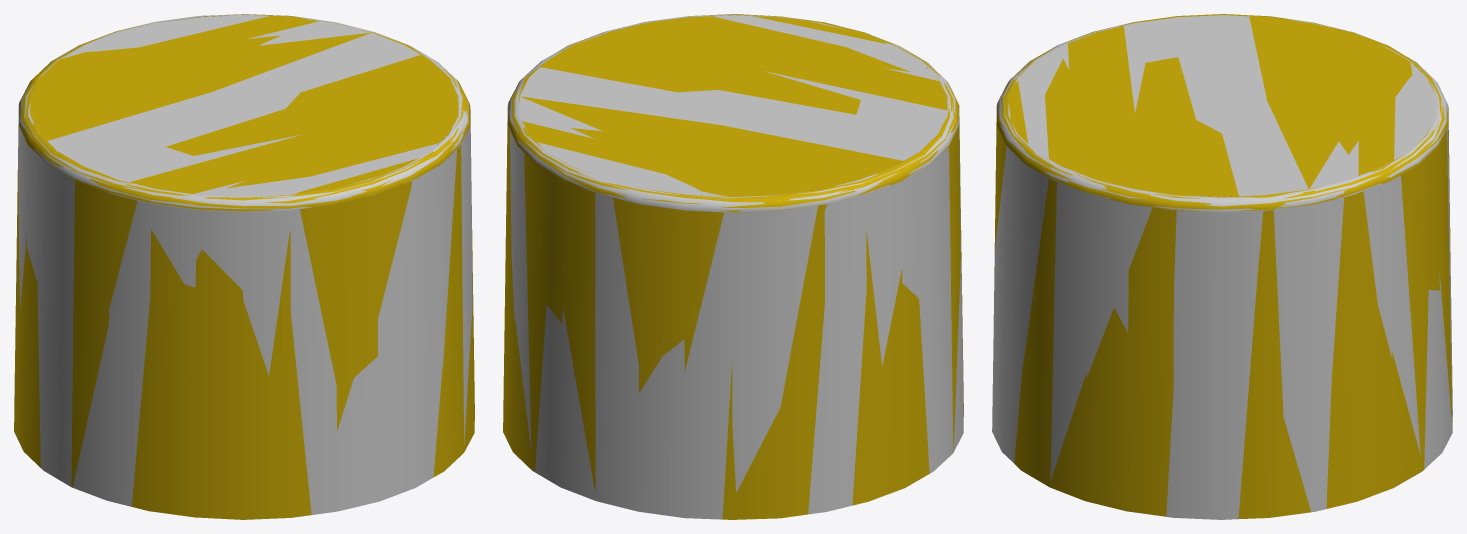
The model's file is original_6.obj.
3 renders of one model, left to right at view 1: azimuth 30°, elevation 25°; view 2: azimuth 150°, elevation 25°; view 3: azimuth 270°, elevation 25°, orthographic.
Visible parts, largest first — view 1: #ID39; view 2: #ID39; view 3: #ID39.
Part boxes in pixels (x1,y1,x2,y2): #ID39: (14, 14, 474, 519); #ID39: (503, 14, 963, 519); #ID39: (992, 14, 1452, 519).
Size of the model in its own units: 0.2996 by 0.2259 by 0.2982.
